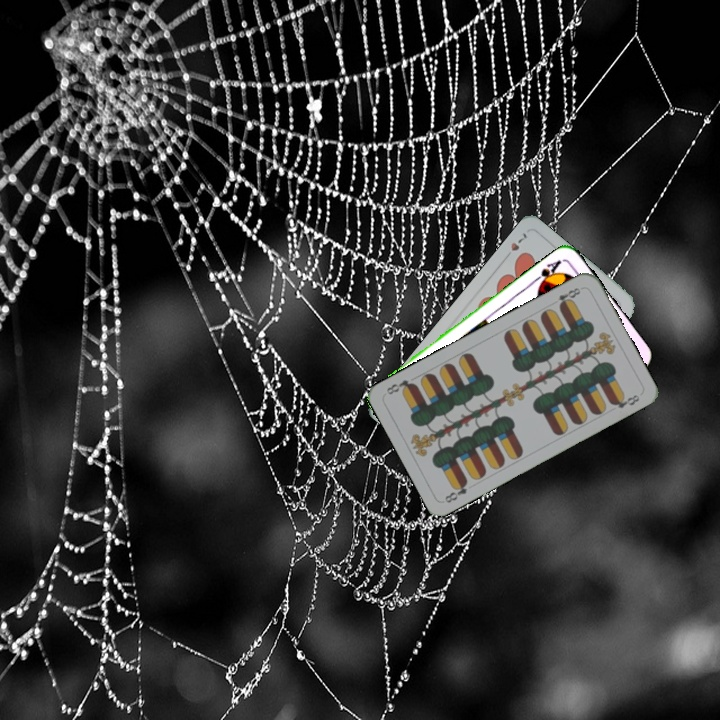E8: (440, 476, 470, 505), (554, 283, 585, 310)
H7: (500, 228, 529, 262)
SA: (530, 256, 564, 290)
